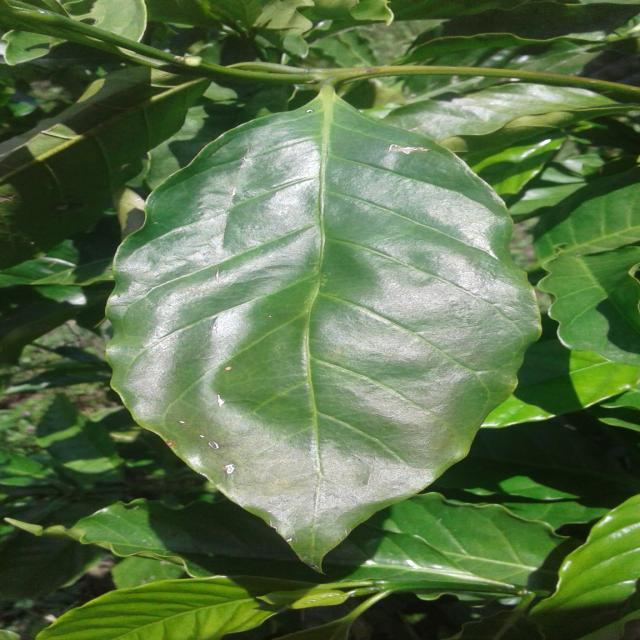Sanas: (102, 87, 543, 563)
